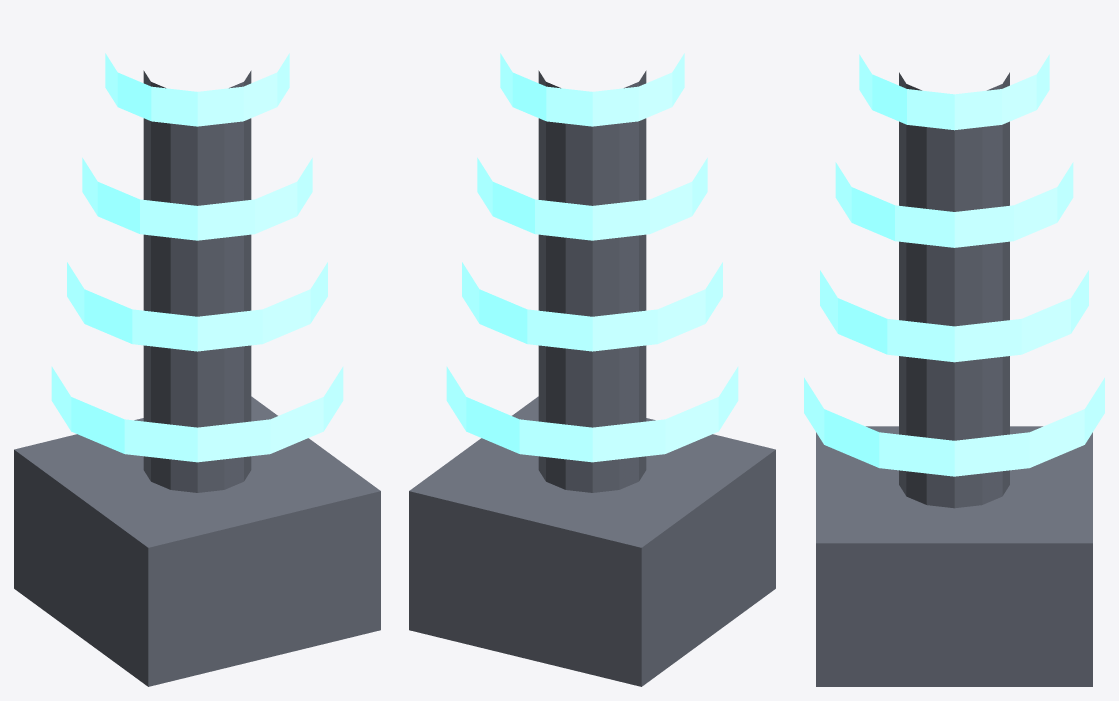
Rendered from obs_02_high_voltage_coil.glb.
3 renders of one model, left to right at view 1: azimuth 30°, elevation 25°; view 2: azimuth 150°, elevation 25°; view 3: azimuth 270°, elevation 25°, orthographic. The views are drawn at different scales.
Visible parts, largest first — view 1: Obs02_HighVoltageCoil; view 2: Obs02_HighVoltageCoil; view 3: Obs02_HighVoltageCoil.
Boxes of the visible parts, x1=… form: Obs02_HighVoltageCoil: x1=14, y1=53, x2=380, y2=686; Obs02_HighVoltageCoil: x1=409, y1=53, x2=775, y2=686; Obs02_HighVoltageCoil: x1=804, y1=54, x2=1104, y2=686.
Size of the model in its own units: 0.76 by 1.6 by 0.76.
